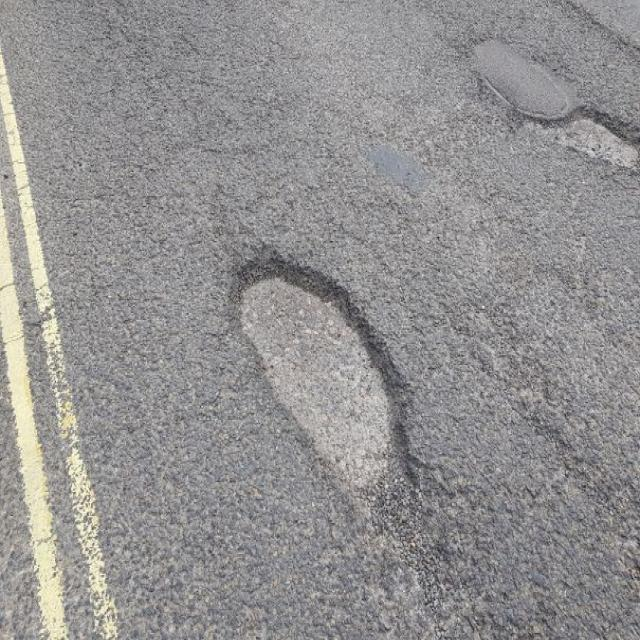pothole: (221, 244, 431, 523), (506, 92, 640, 166)
